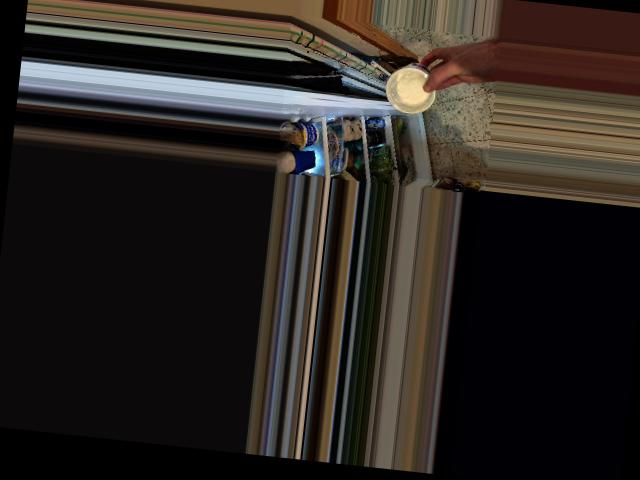cotage: (384, 57, 443, 112)
